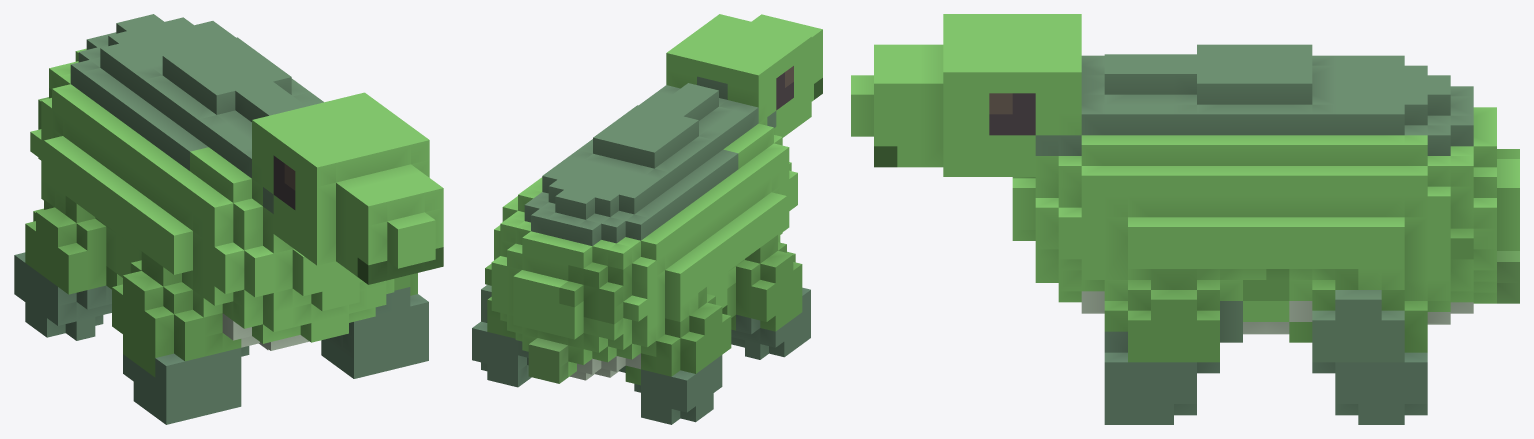
Rendered from boar-42.glb.
3 views of the same model, side by side, from view 1: azimuth 30°, elevation 25°; view 2: azimuth 150°, elevation 25°; view 3: azimuth 270°, elevation 25° (orthographic). The views are drawn at different scales.
Visible parts, largest first — view 1: body, head, legFL, legBL, legFR, ridge, eyeLeft; view 2: body, head, legBL, legFL, ridge, legBR, tailTip, eyeLeft, neck; view 3: body, head, legFR, legBR, ridge, eyeRight, tailTip.
Part boxes in pixels (bbox=[...]): body: bbox=[30, 14, 394, 350]; head: bbox=[252, 92, 443, 284]; legFL: bbox=[112, 251, 249, 424]; legBL: bbox=[14, 196, 122, 340]; legFR: bbox=[321, 273, 428, 378]; ridge: bbox=[162, 37, 291, 114]; eyeLeft: bbox=[273, 155, 295, 209]; body: bbox=[485, 83, 797, 380]; head: bbox=[666, 14, 822, 137]; legBL: bbox=[619, 287, 731, 424]; legFL: bbox=[722, 235, 810, 359]; ridge: bbox=[593, 105, 698, 168]; legBR: bbox=[472, 285, 531, 387]; tailTip: bbox=[528, 338, 568, 383]; eyeLeft: bbox=[776, 66, 793, 110]; neck: bbox=[697, 76, 776, 127]; body: bbox=[1012, 54, 1519, 334]; head: bbox=[851, 14, 1081, 176]; legFR: bbox=[1104, 269, 1242, 424]; legBR: bbox=[1289, 269, 1427, 424]; ridge: bbox=[1197, 44, 1312, 104]; eyeRight: bbox=[989, 93, 1035, 135]; tailTip: bbox=[1497, 251, 1519, 303].
Bounding box in the file's own units: 0.63 × 0.675 × 1.3.
